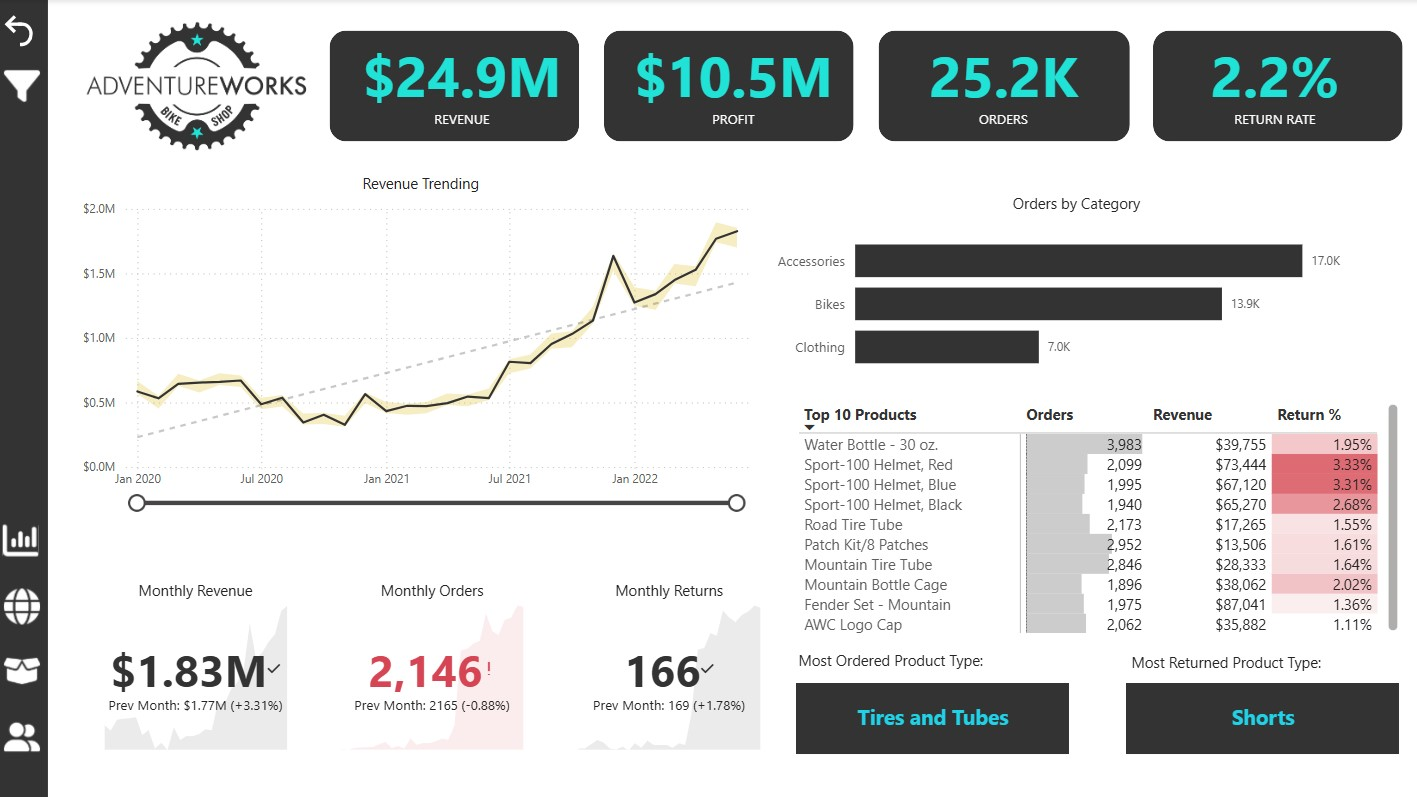

The dashboard page shown, as its layout file describes it:
{"tool":"powerbi","page":{"name":"Exec Dashboard","canvas":[1280,720],"ordinal":0},"visuals":[{"type":"image","title":"AW Logo","box":[57.5,0,242.5,157.5],"z":0},{"type":"card","fields":{"Values":["Measure Table.Total Profit"]},"box":[549.5,26.2,224.7,98.6],"z":0,"group":"g2"},{"type":"group","id":"g1","title":"KPI Backgrounds","box":[298.6,28.7,967.6,100],"z":0,"group":"g3"},{"type":"shape","box":[298.6,28.7,225,100],"z":0,"group":"g1"},{"type":"actionButton","box":[0,467.7,59.5,40.6],"z":0,"group":"g4"},{"type":"shape","title":"Left Nav Background","box":[0,0,45,720.6],"z":1000},{"type":"group","id":"g2","title":"KPI Values","box":[305.3,26.2,957.1,98.6],"z":1000,"group":"g3"},{"type":"card","fields":{"Values":["Measure Table.Total Revenue"]},"box":[305.3,26.2,224.7,98.6],"z":1000,"group":"g2"},{"type":"shape","box":[545.7,28.7,225,100],"z":1000,"group":"g1"},{"type":"actionButton","box":[1.4,527.2,59.5,40.6],"z":1000,"group":"g4"},{"type":"group","id":"g3","title":"KPIs","box":[298.6,26.2,967.6,102.5],"z":2000},{"type":"card","fields":{"Values":["Measure Table.Total Orders"]},"box":[793.6,26.2,224.7,98.6],"z":2000,"group":"g2"},{"type":"shape","box":[792.7,28.7,226.5,100],"z":2000,"group":"g1"},{"type":"actionButton","box":[1.4,585.3,59.5,40.6],"z":2000,"group":"g4"},{"type":"card","fields":{"Values":["Measure Table.Return Rate"]},"box":[1037.8,26.2,224.7,98.6],"z":3000,"group":"g2"},{"type":"shape","box":[1041.2,28.7,225,100],"z":3000,"group":"g1"},{"type":"lineChart","title":"Revenue Trending","fields":{"Category":["Calendar Lookup.Start of Month"],"Y":["Measure Table.Total Revenue"]},"box":[70,157.1,621.4,308.6],"z":3000},{"type":"actionButton","box":[1.4,644.8,59.5,40.6],"z":3000,"group":"g4"},{"type":"kpi","title":"Monthly Revenue","fields":{"Goal":["Measure Table.Previous Month Revenue"],"Indicator":["Measure Table.Total Revenue"],"TrendLine":["Calendar Lookup.Start of Month"]},"box":[90,522.9,175,158.6],"z":4000},{"type":"kpi","title":"Monthly Returns","fields":{"Goal":["Measure Table.Previous Month Returns"],"Indicator":["Measure Table.Total Returns"],"TrendLine":["Calendar Lookup.Start of Month"]},"box":[517.1,522.9,174.3,158.6],"z":5000},{"type":"kpi","title":"Monthly Orders","fields":{"Goal":["Measure Table.Previous Month Orders"],"Indicator":["Measure Table.Total Orders"],"TrendLine":["Calendar Lookup.Start of Month"]},"box":[303.9,522.9,174.3,158.6],"z":6000},{"type":"clusteredBarChart","title":"Orders by Category","fields":{"Category":["Product Categories Lookup.CategoryName"],"Y":["Measure Table.Total Orders"]},"box":[692.1,174.4,559.6,175.7],"z":7000},{"type":"pivotTable","fields":{"Rows":["Product Lookup.ProductName"],"Values":["Measure Table.Total Orders","Measure Table.Total Revenue","Measure Table.Return Rate"]},"box":[716.2,360,550,216.2],"z":8000},{"type":"card","fields":{"Values":["Min(Product Subcategories Lookup.SubcategoryName)"]},"box":[719.6,616.7,246.2,63.8],"z":9000},{"type":"textbox","box":[716.4,581.2,189.2,35.1],"z":10000},{"type":"card","fields":{"Values":["Min(Product Subcategories Lookup.SubcategoryName)"]},"box":[1016.2,616.2,246.2,63.8],"z":11000},{"type":"textbox","box":[1016.5,582.6,185.2,33.8],"z":12000},{"type":"actionButton","box":[0,9.5,44.6,37.8],"z":13000},{"type":"group","id":"g4","title":"Navigations Buttons","box":[0,467.7,60.8,217.6],"z":14000},{"type":"actionButton","box":[1.4,58.1,44.6,40.6],"z":15000}]}

Visuals, with their boxes on the page's 1280x720 design canvas (x1, y1, x2, y2). These are canvas units, not pixel positions in the 1417x797 screenshot, which may show the page scaled, cropped or inside an application window:
"AW Logo" image: <region>58, 0, 300, 158</region>
card - Measure Table.Total Profit: <region>550, 26, 774, 125</region>
"KPI Backgrounds" group: <region>299, 29, 1266, 129</region>
shape: <region>299, 29, 524, 129</region>
actionButton: <region>0, 468, 60, 508</region>
"Left Nav Background" shape: <region>0, 0, 45, 721</region>
"KPI Values" group: <region>305, 26, 1262, 125</region>
card - Measure Table.Total Revenue: <region>305, 26, 530, 125</region>
shape: <region>546, 29, 771, 129</region>
actionButton: <region>1, 527, 61, 568</region>
"KPIs" group: <region>299, 26, 1266, 129</region>
card - Measure Table.Total Orders: <region>794, 26, 1018, 125</region>
shape: <region>793, 29, 1019, 129</region>
actionButton: <region>1, 585, 61, 626</region>
card - Measure Table.Return Rate: <region>1038, 26, 1262, 125</region>
shape: <region>1041, 29, 1266, 129</region>
"Revenue Trending" lineChart: <region>70, 157, 691, 466</region>
actionButton: <region>1, 645, 61, 685</region>
"Monthly Revenue" kpi: <region>90, 523, 265, 682</region>
"Monthly Returns" kpi: <region>517, 523, 691, 682</region>
"Monthly Orders" kpi: <region>304, 523, 478, 682</region>
"Orders by Category" clusteredBarChart: <region>692, 174, 1252, 350</region>
pivotTable - Product Lookup.ProductName x Measure Table.Total Orders: <region>716, 360, 1266, 576</region>
card - Min(Product Subcategories Lookup.SubcategoryName): <region>720, 617, 966, 680</region>
textbox: <region>716, 581, 906, 616</region>
card - Min(Product Subcategories Lookup.SubcategoryName): <region>1016, 616, 1262, 680</region>
textbox: <region>1016, 583, 1202, 616</region>
actionButton: <region>0, 10, 45, 47</region>
"Navigations Buttons" group: <region>0, 468, 61, 685</region>
actionButton: <region>1, 58, 46, 99</region>
